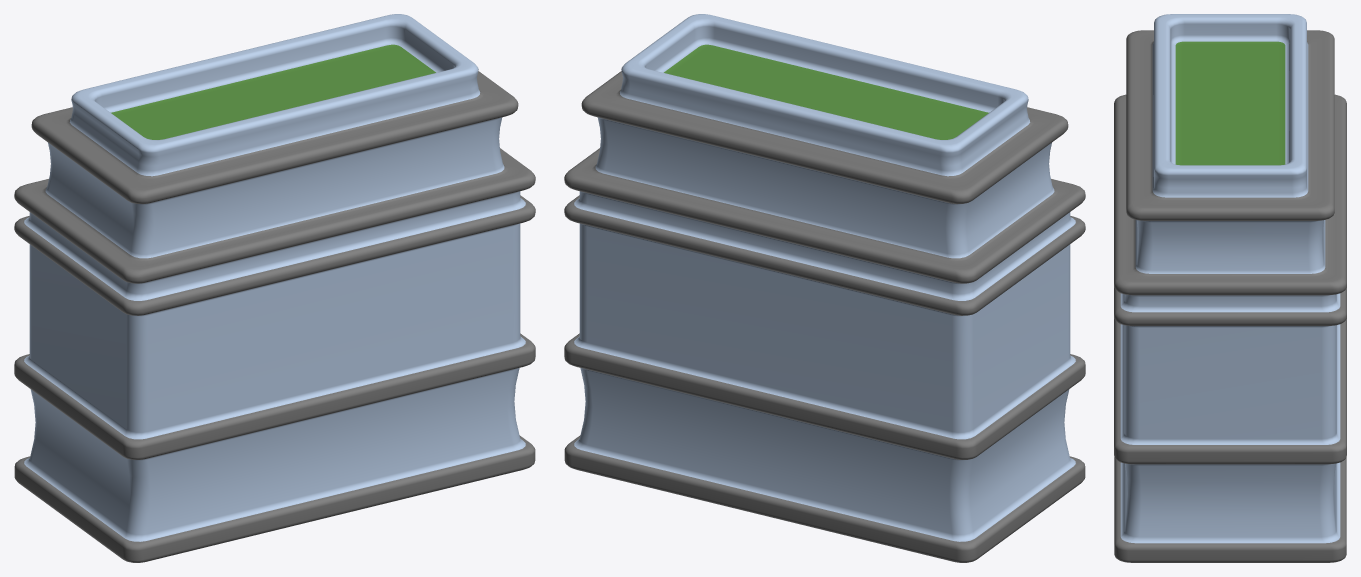
The model's file is SM_Building_05_Part_03.fbx.
3 views of the same model, side by side, from view 1: azimuth 30°, elevation 25°; view 2: azimuth 150°, elevation 25°; view 3: azimuth 270°, elevation 25° (orthographic). The views are drawn at different scales.
Parts seen in each view (by area): view 1: SM_Building_05_Part_03; view 2: SM_Building_05_Part_03; view 3: SM_Building_05_Part_03.
Boxes of the visible parts, left/top/right/bottom form: SM_Building_05_Part_03: left=14, top=14, right=535, bottom=562; SM_Building_05_Part_03: left=564, top=14, right=1085, bottom=562; SM_Building_05_Part_03: left=1114, top=14, right=1346, bottom=562.
Size of the model in its own units: 4394 by 4022 by 2250.
